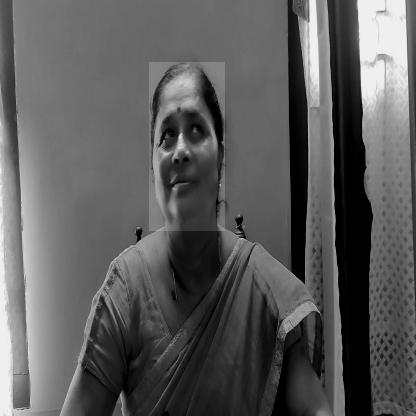Normal: (150, 62, 226, 231)
